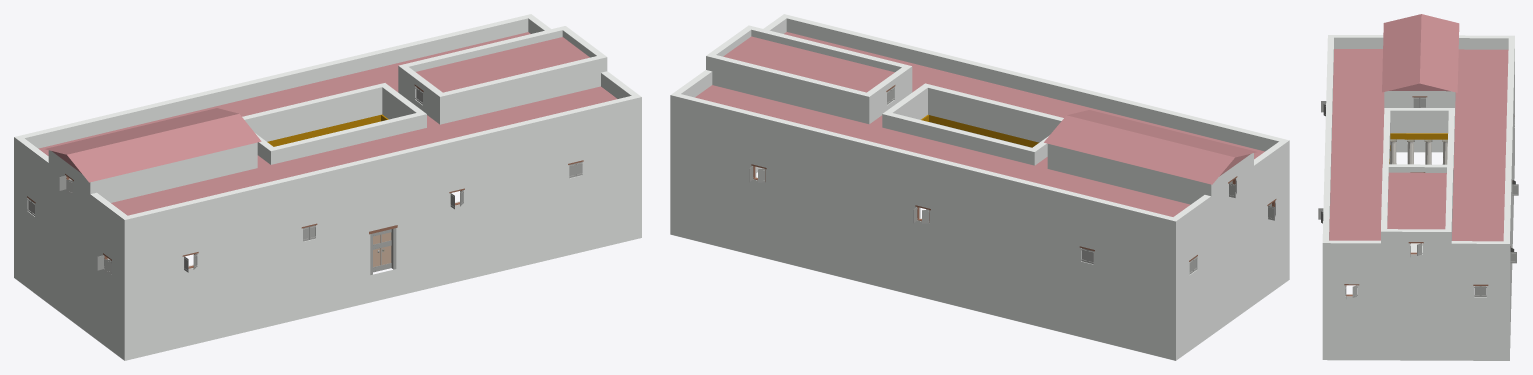
The model's file is LOD_Block_0_22.glb.
The picture shows the model from 3 angles, left to right: view 1: azimuth 30°, elevation 25°; view 2: azimuth 150°, elevation 25°; view 3: azimuth 270°, elevation 25°; orthographic projection. The views are drawn at different scales.
Parts seen in each view (by area): view 1: _1.216; view 2: _1.216; view 3: _1.216.
Boxes of the visible parts, <box> form: _1.216: <box>14,14,641,360</box>; _1.216: <box>670,14,1289,360</box>; _1.216: <box>1318,14,1518,360</box>.
Bounding box in the file's own units: 40.38 × 12.09 × 16.
3 materials, 3 textured.
